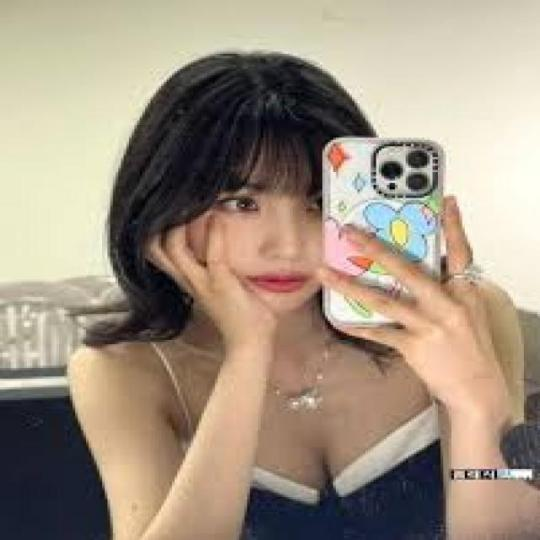phone: (320, 130, 456, 329)
